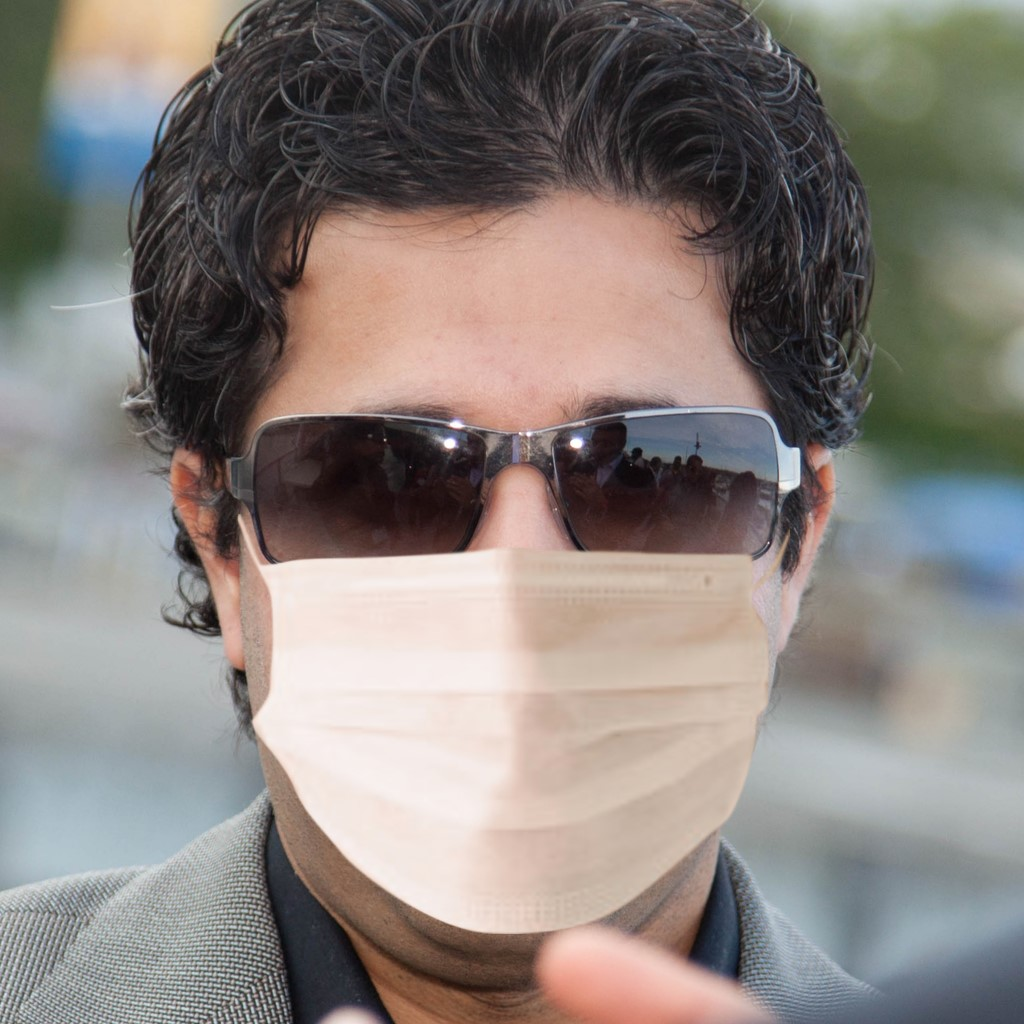con_mascara: (130, 144, 857, 952)
